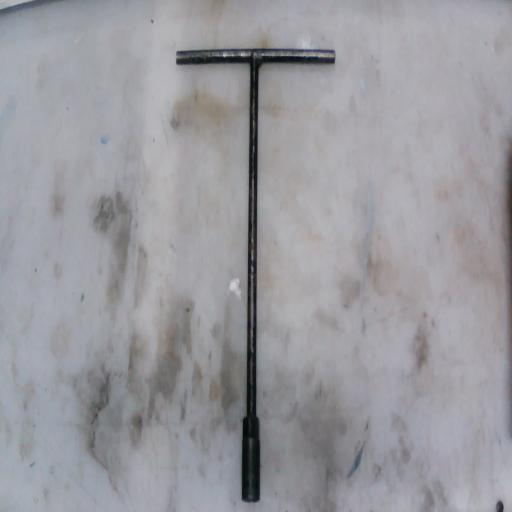kunci_t: (165, 17, 348, 512)
